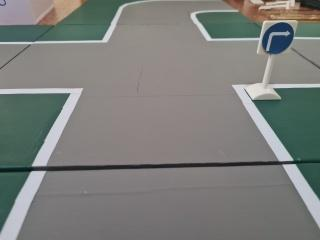right: (256, 20, 297, 57)
